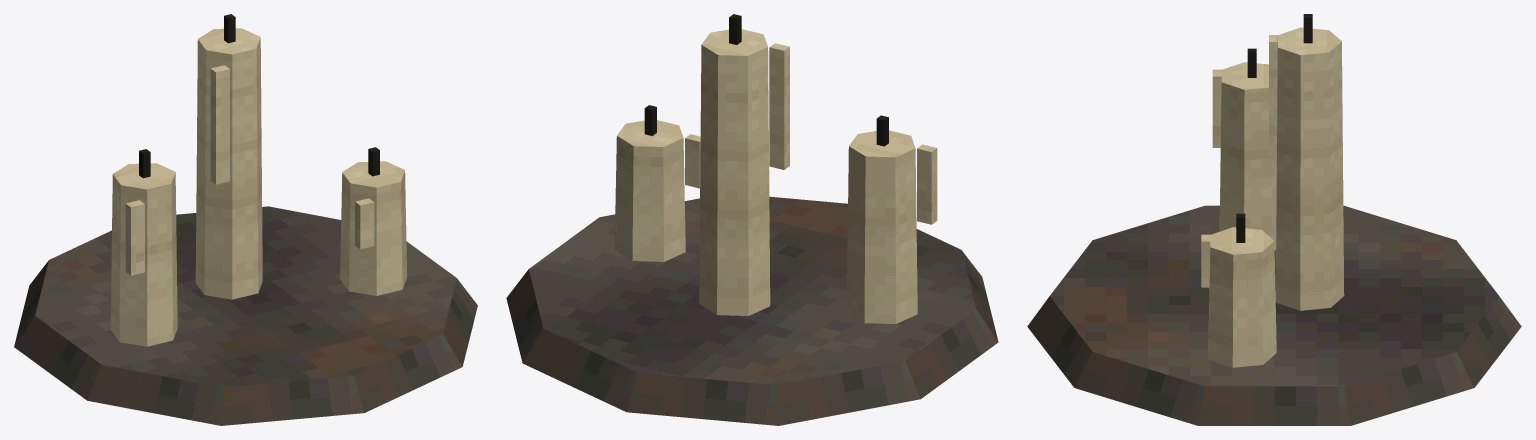
The model's file is velas_grupo.obj.
The picture shows the model from 3 angles, left to right: view 1: azimuth 30°, elevation 25°; view 2: azimuth 150°, elevation 25°; view 3: azimuth 270°, elevation 25°; orthographic projection. The views are drawn at different scales.
Parts seen in each view (by area): view 1: velas_grupo; view 2: velas_grupo; view 3: velas_grupo.
Boxes of the visible parts, x1,y1,x2,y2 form: velas_grupo: [14, 14, 477, 425]; velas_grupo: [506, 14, 998, 425]; velas_grupo: [1027, 14, 1521, 425].
Size of the model in its own units: 0.4185 by 0.305 by 0.44.
Materials: 3 (3 with a texture image).
